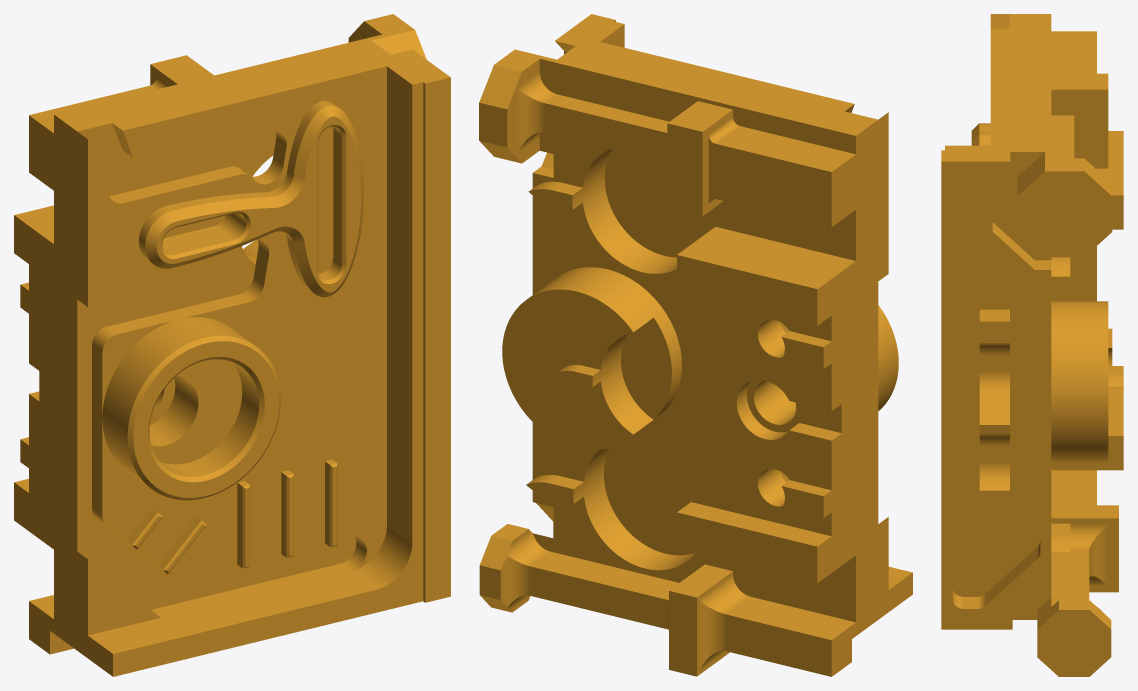
The picture shows the model from 3 angles, left to right: view 1: azimuth 30°, elevation 25°; view 2: azimuth 150°, elevation 25°; view 3: azimuth 270°, elevation 25°; orthographic projection. The views are drawn at different scales.
Bounding box in the file's own units: 98 × 148 × 48.
